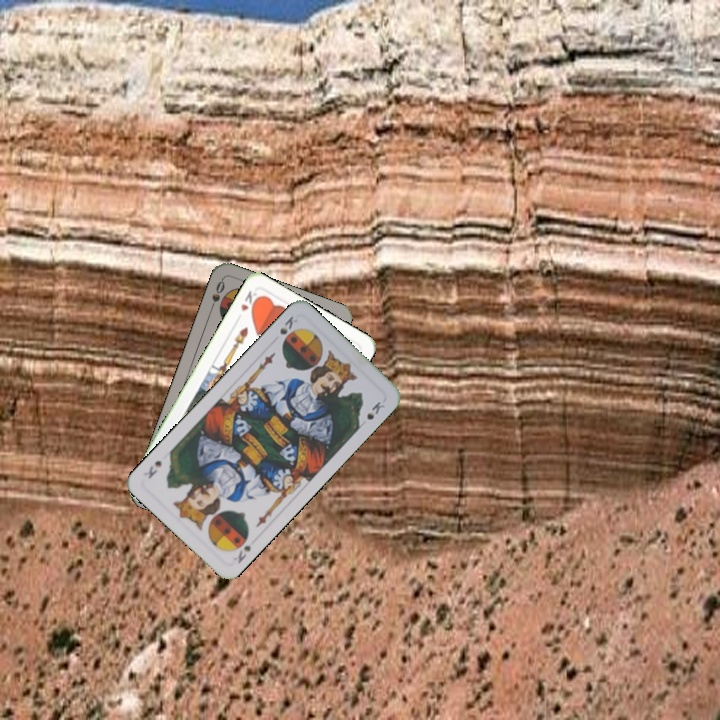HK: (237, 286, 262, 315)
SK: (229, 541, 254, 566), (276, 312, 300, 337)
SO: (206, 276, 227, 315)
